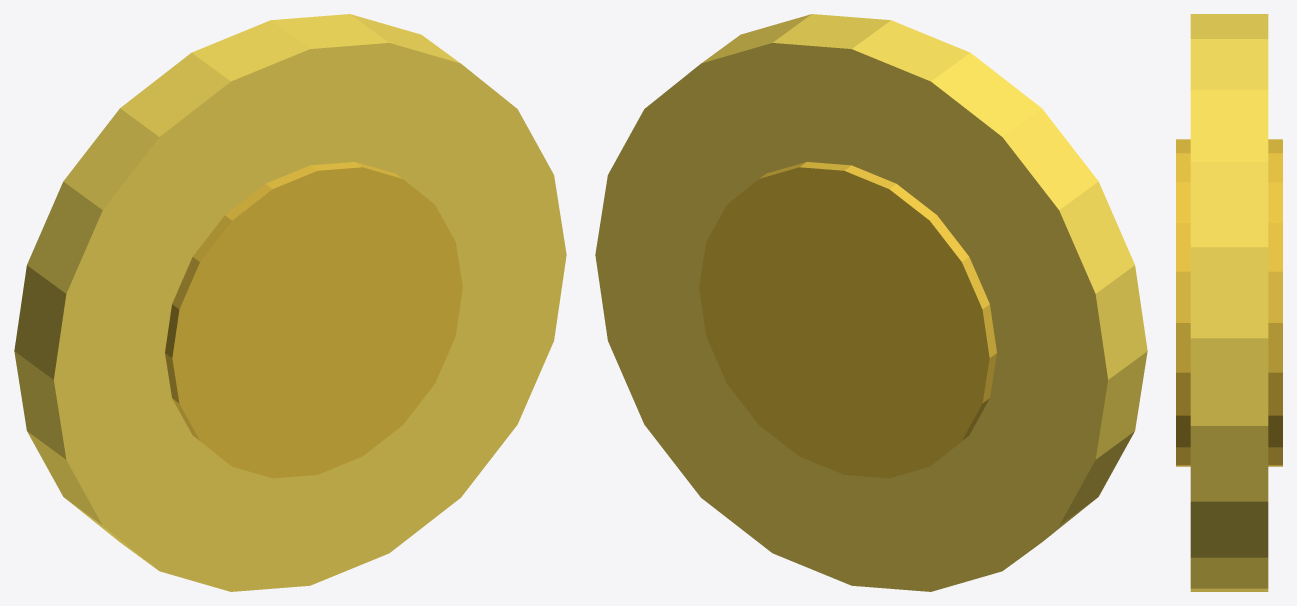
The model's file is tile_coin.glb.
3 views of the same model, side by side, from view 1: azimuth 30°, elevation 25°; view 2: azimuth 150°, elevation 25°; view 3: azimuth 270°, elevation 25° (orthographic).
Parts seen in each view (by area): view 1: Coin, CoinInner; view 2: Coin, CoinInner; view 3: Coin, CoinInner.
Part boxes in pixels (x1,y1,x2,y2): Coin: (14,14,566,591); CoinInner: (165,162,462,478); Coin: (595,14,1147,591); CoinInner: (699,162,996,478); Coin: (1190,14,1268,591); CoinInner: (1176,139,1282,466).
Bounding box in the file's own units: 0.6 × 0.6 × 0.11.
